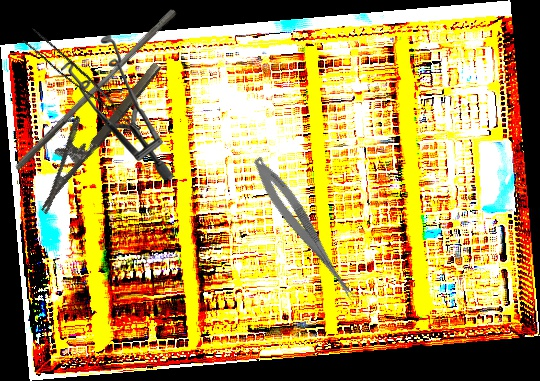Micro Scissor: (245, 152, 367, 308)
Needle Holder: (16, 45, 164, 215)
Pusher: (13, 2, 179, 178)
Speculum: (61, 35, 173, 180)
Tissue Forceps: (19, 27, 152, 132)
